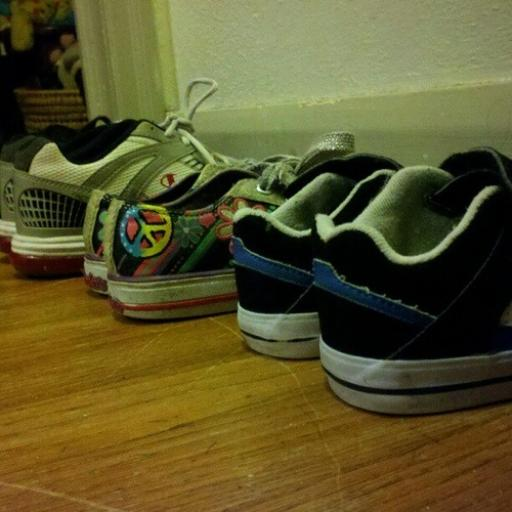shoe: (313, 147, 512, 415), (12, 80, 228, 275), (232, 154, 400, 360), (104, 170, 284, 319), (84, 162, 258, 294), (0, 117, 111, 253)
